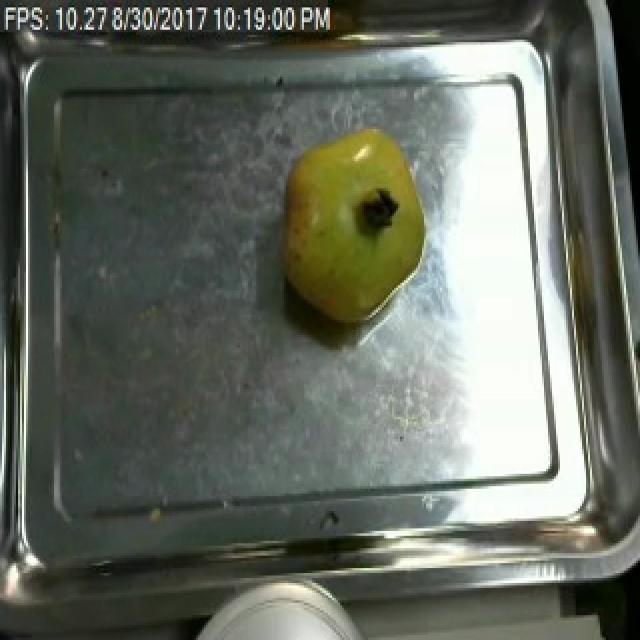fruit: (272, 116, 432, 328), (180, 575, 380, 640)
